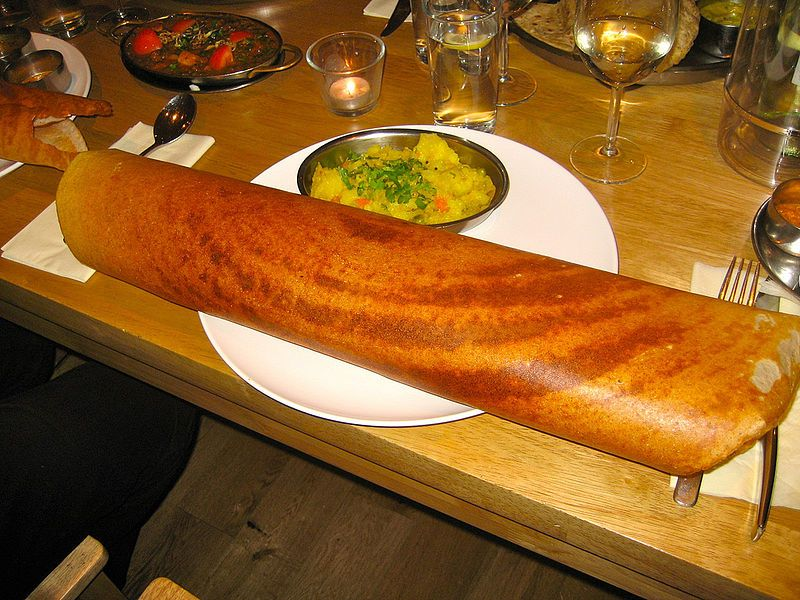dosa: (51, 137, 799, 477)
